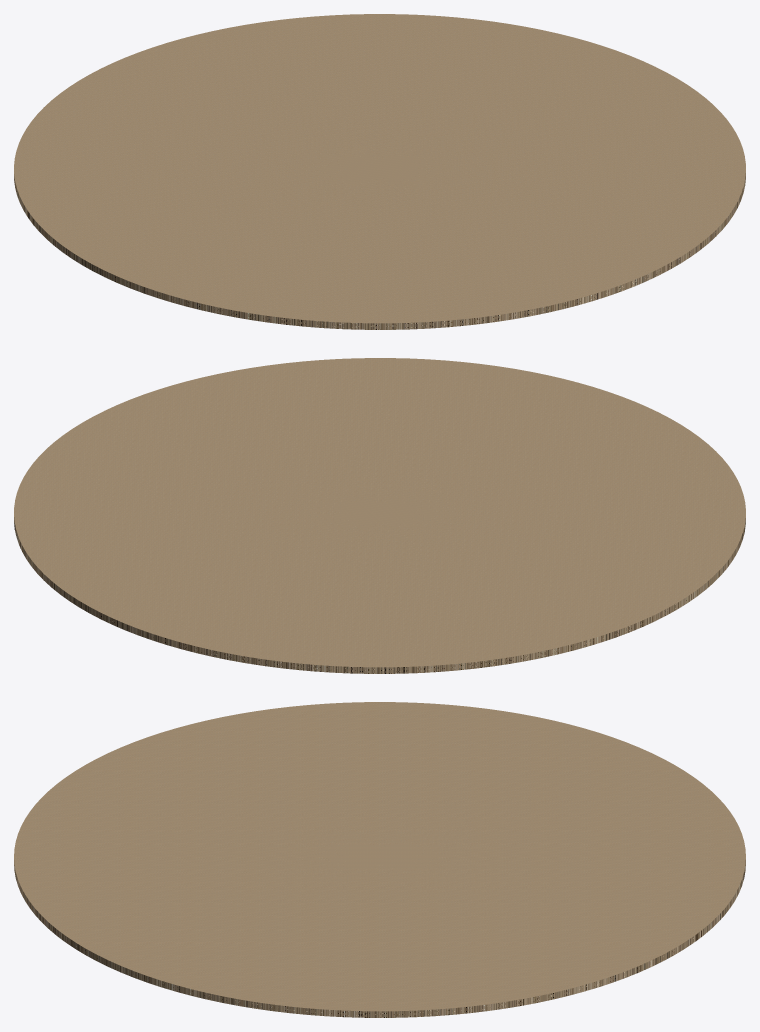
3 views of the same model, one above another, from view 1: azimuth 30°, elevation 25°; view 2: azimuth 150°, elevation 25°; view 3: azimuth 270°, elevation 25° (orthographic).
Parts seen in each view (by area): view 1: Terrain; view 2: Terrain; view 3: Terrain.
Boxes of the visible parts, left/top/right/bottom form: Terrain: left=14, top=14, right=745, bottom=329; Terrain: left=14, top=358, right=745, bottom=673; Terrain: left=14, top=702, right=745, bottom=1017.
Size of the model in its own units: 100000 by 1000 by 100000.
Materials: 1 (1 with a texture image).
